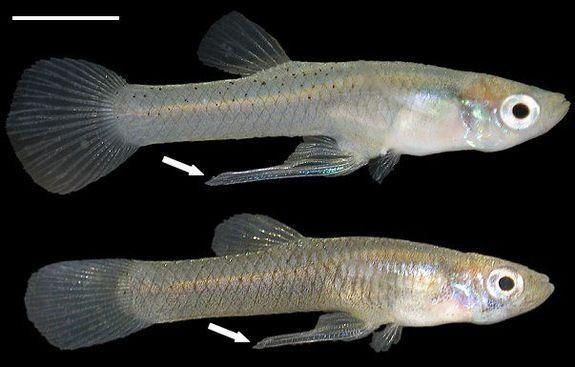Mosquito Fish: (9, 8, 569, 194), (21, 213, 558, 356)
